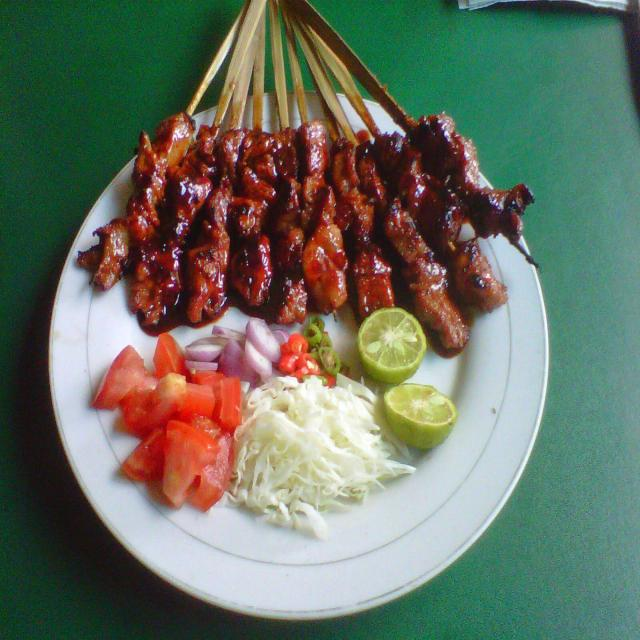Sate: (126, 9, 546, 354)
